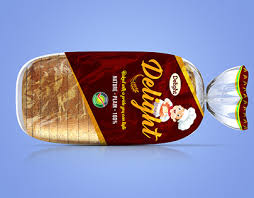bread: (14, 44, 241, 156)
